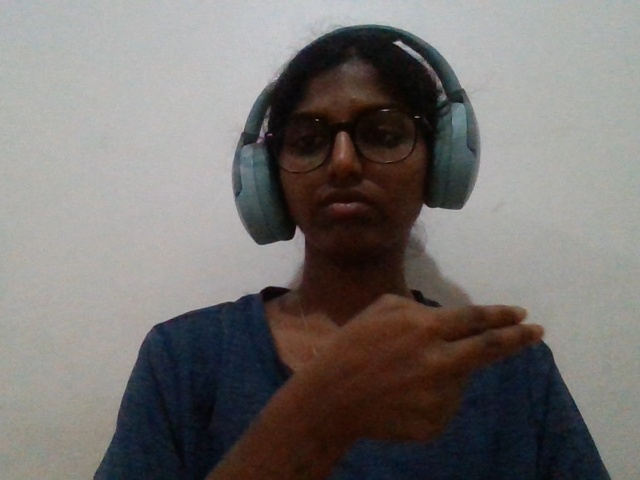H: (259, 265, 577, 480)
